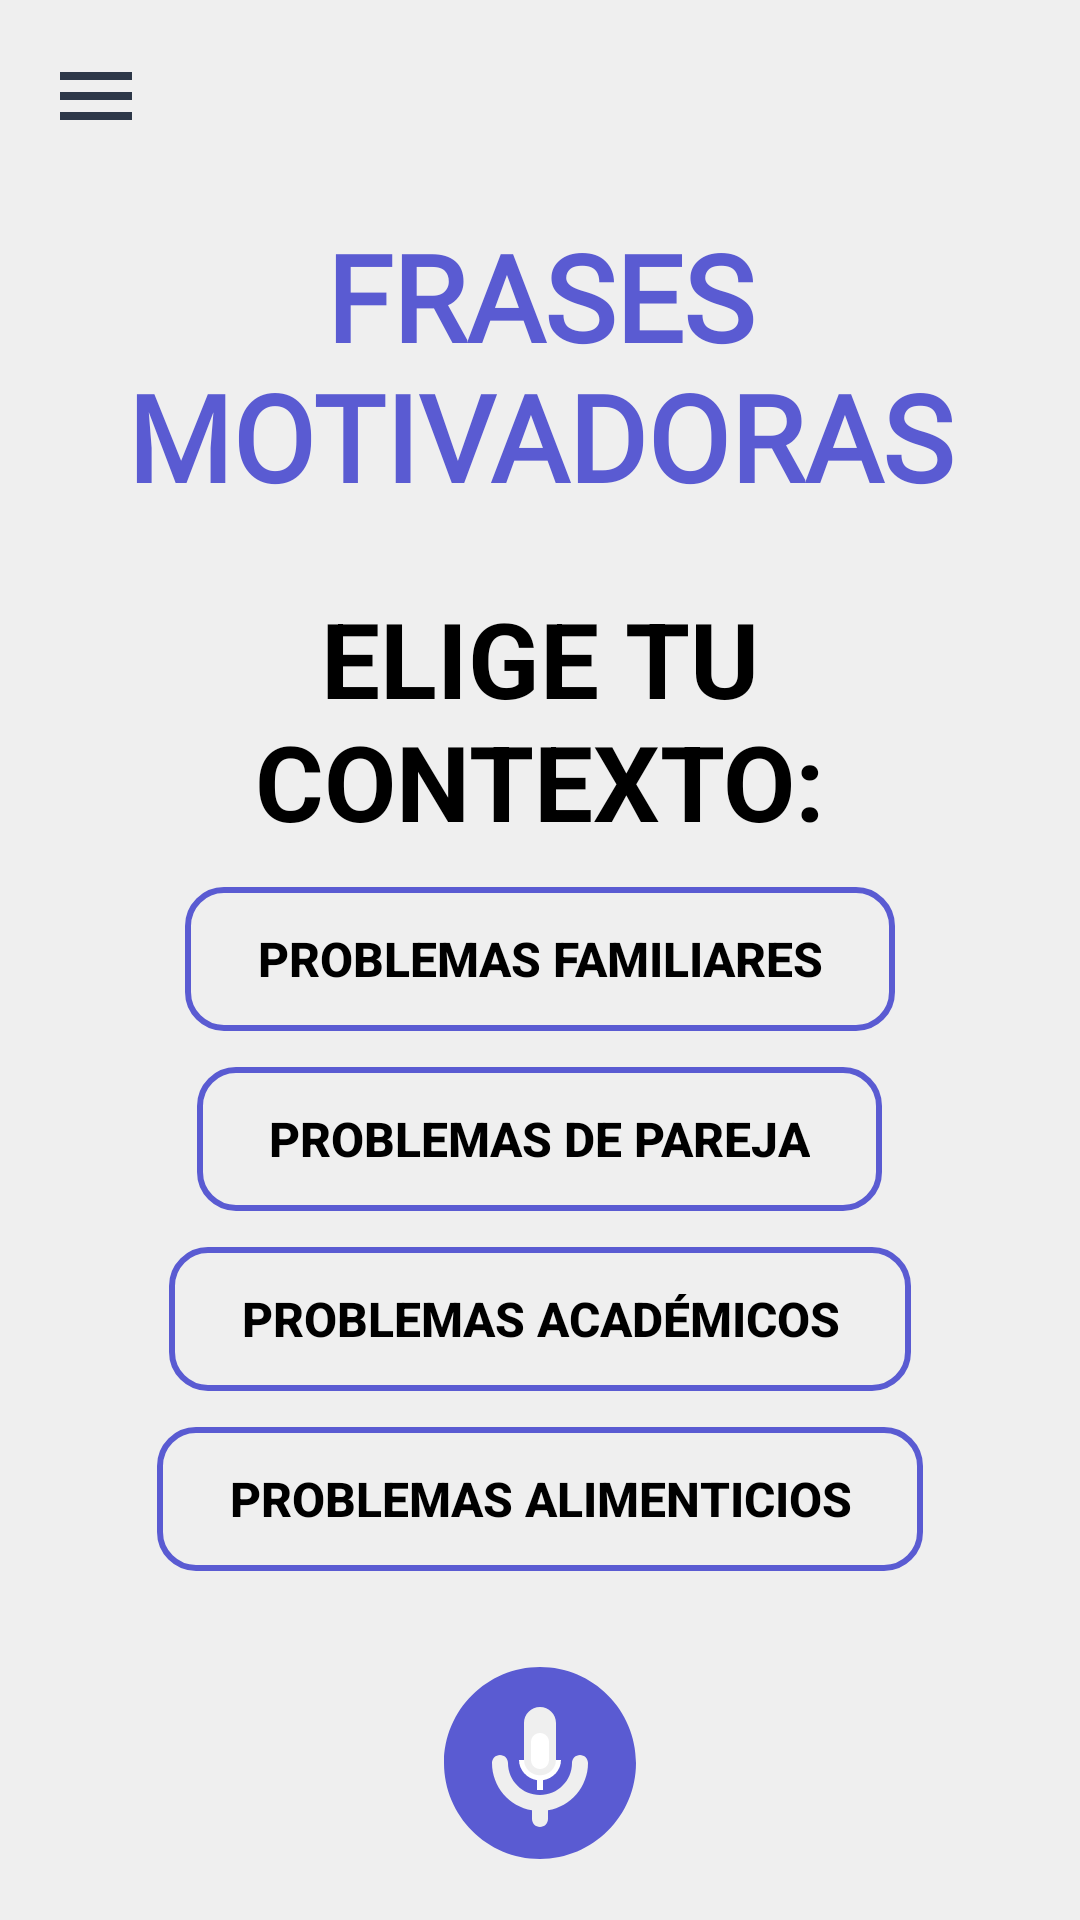

Screen size 1080px×1920px. Icon name, then its box in pixels as detection(x1, y1, x2, y2):
menu: detection(60, 72, 132, 120)
mic: detection(444, 1667, 636, 1859)
